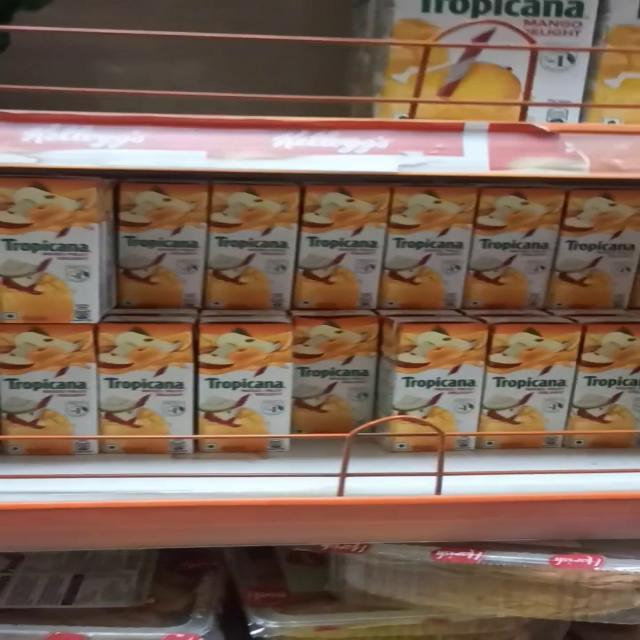Tropicana: (202, 308, 308, 452), (0, 168, 96, 321), (106, 174, 208, 312), (99, 317, 203, 448), (378, 178, 478, 312), (483, 318, 583, 451), (208, 171, 298, 314), (0, 324, 91, 452), (396, 320, 482, 455)
